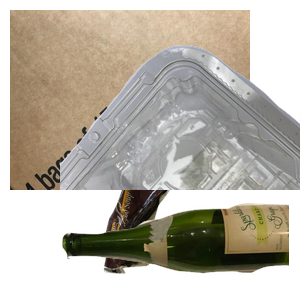cardboard: (10, 10, 250, 190)
glass: (60, 201, 300, 300)
plastic: (60, 43, 300, 223)
trash: (101, 157, 270, 300)
